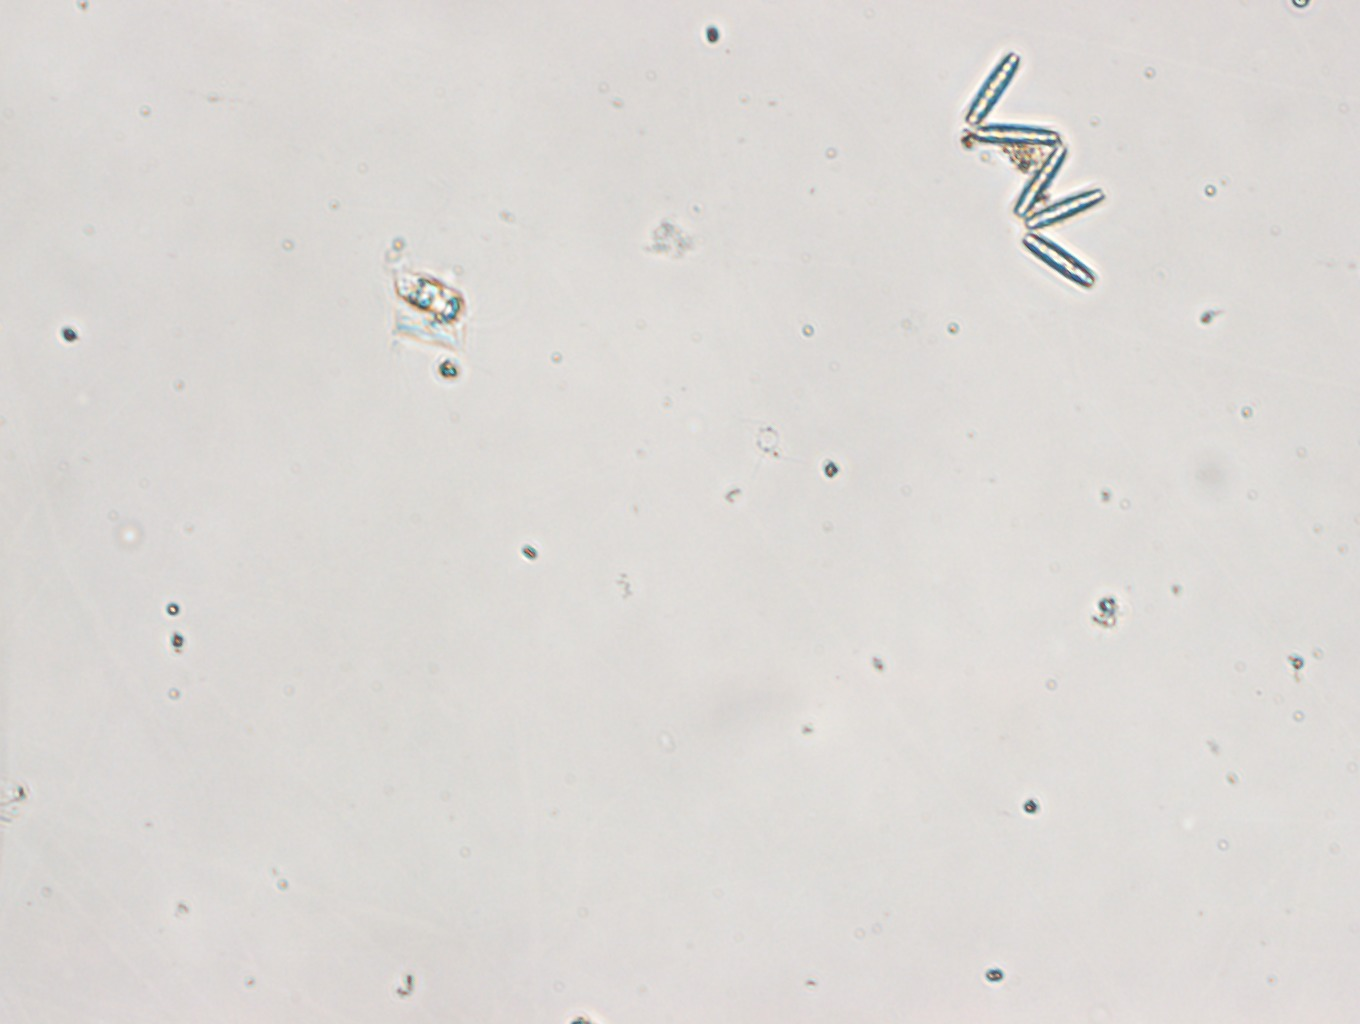thalassionema nitzschioides: (964, 51, 1107, 291)
